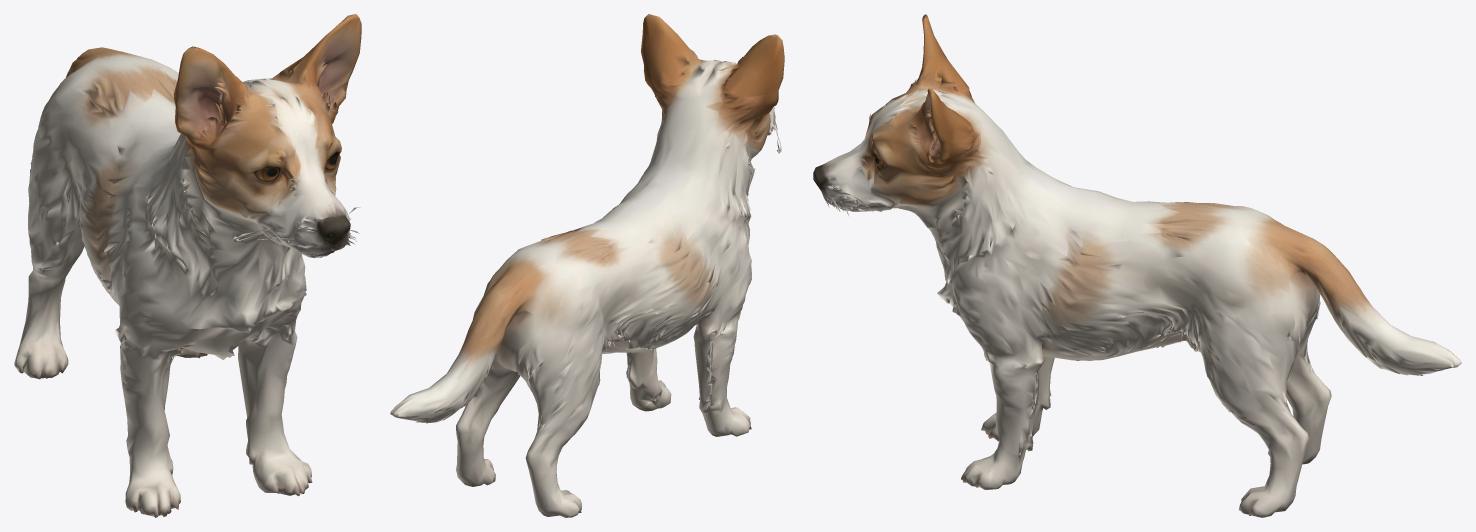
File: belka.glb
3 renders of one model, left to right at view 1: azimuth 30°, elevation 25°; view 2: azimuth 150°, elevation 25°; view 3: azimuth 270°, elevation 25°, orthographic. The views are drawn at different scales.
Visible parts, largest first — view 1: tripo_node_bdd6e6e0-cf63-4cb6-bba3-ed1b11942ecc; view 2: tripo_node_bdd6e6e0-cf63-4cb6-bba3-ed1b11942ecc; view 3: tripo_node_bdd6e6e0-cf63-4cb6-bba3-ed1b11942ecc.
Part boxes in pixels (left/top/right/bottom): tripo_node_bdd6e6e0-cf63-4cb6-bba3-ed1b11942ecc: left=14, top=14, right=361, bottom=517; tripo_node_bdd6e6e0-cf63-4cb6-bba3-ed1b11942ecc: left=390, top=14, right=784, bottom=517; tripo_node_bdd6e6e0-cf63-4cb6-bba3-ed1b11942ecc: left=813, top=14, right=1461, bottom=517.
Size of the model in its own units: 0.3503 by 0.7065 by 0.9986.
1 material, 1 textured.
